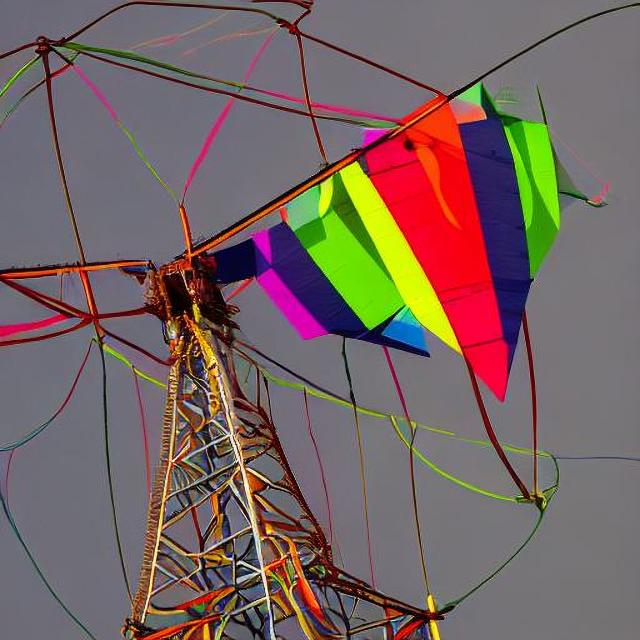floating object: (208, 110, 588, 382)
